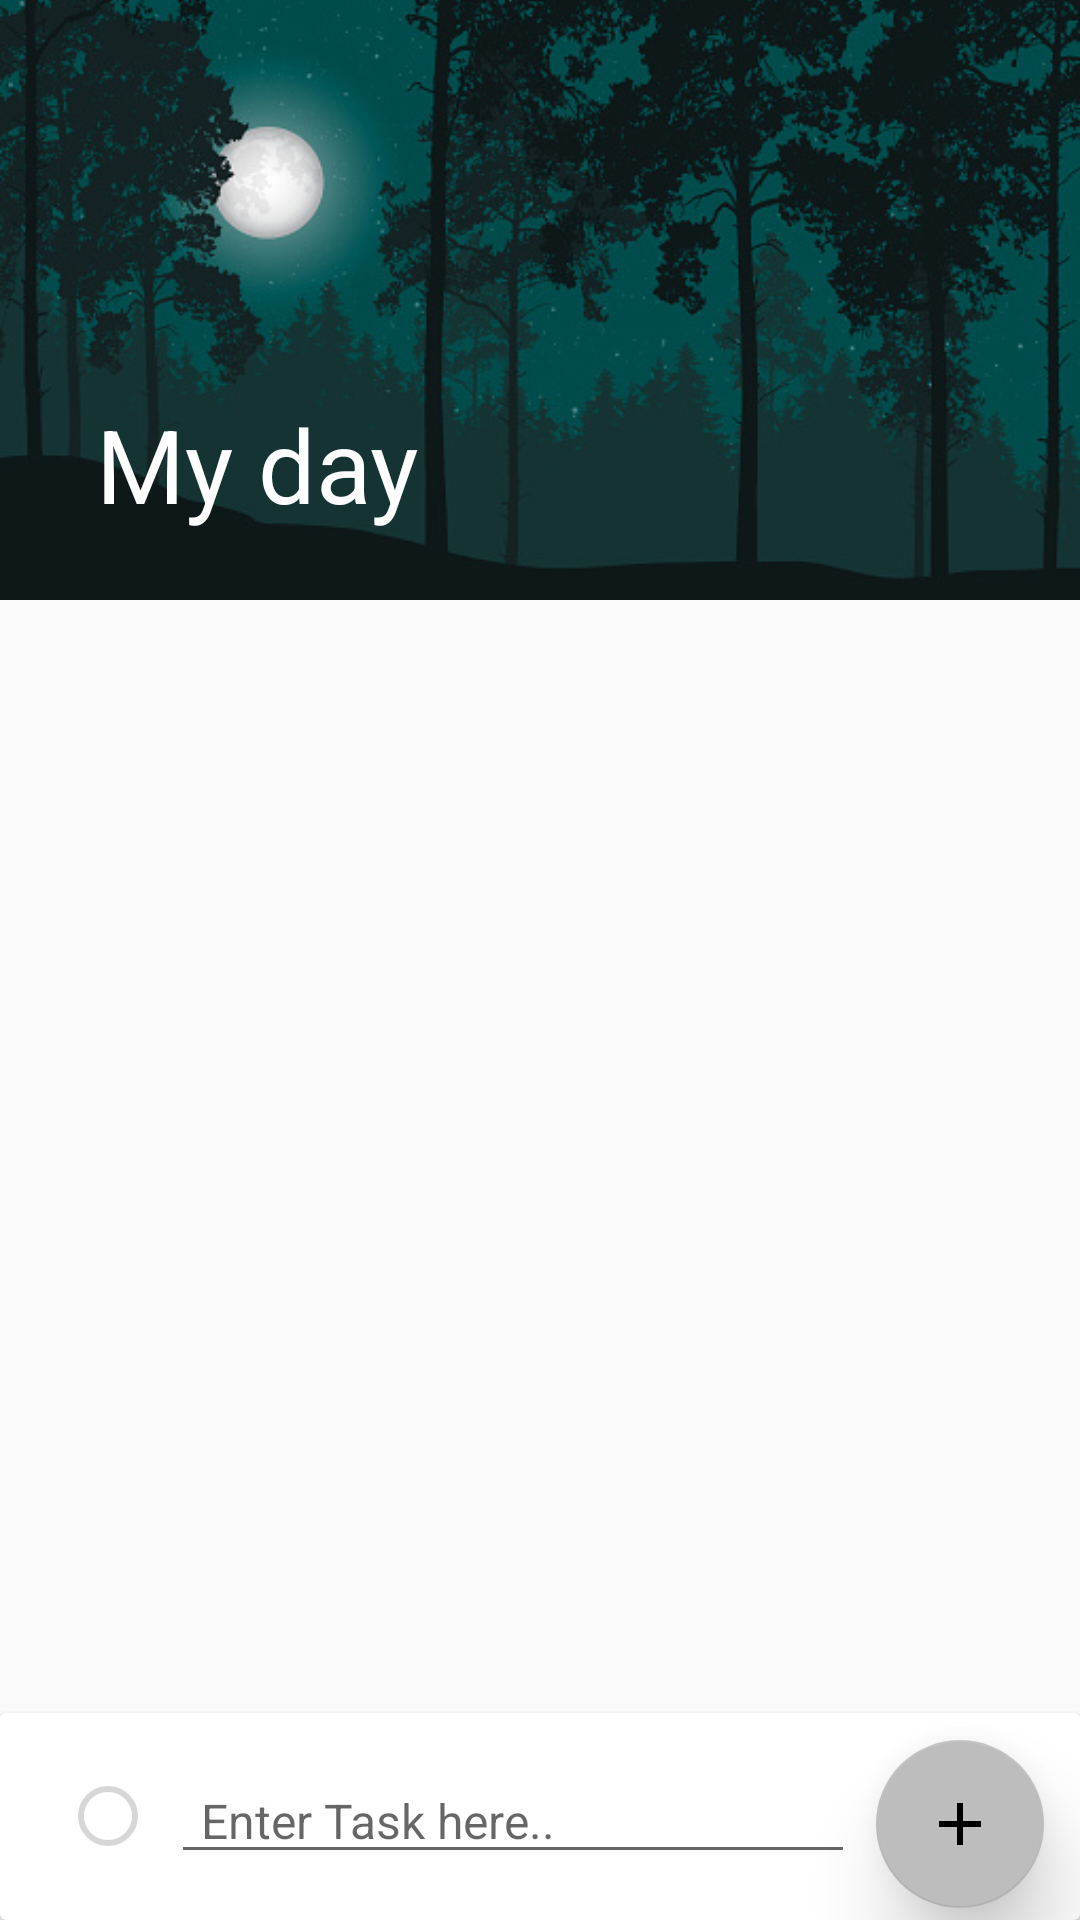

Where to tap for icons on this 1080×1920 app screen, as [x,y]:
add: [960,1824]
